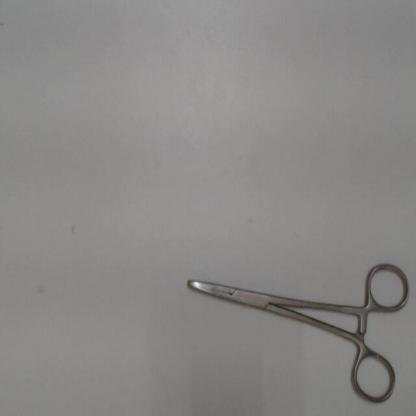Mayo Needle Holder: (176, 252, 414, 410)
